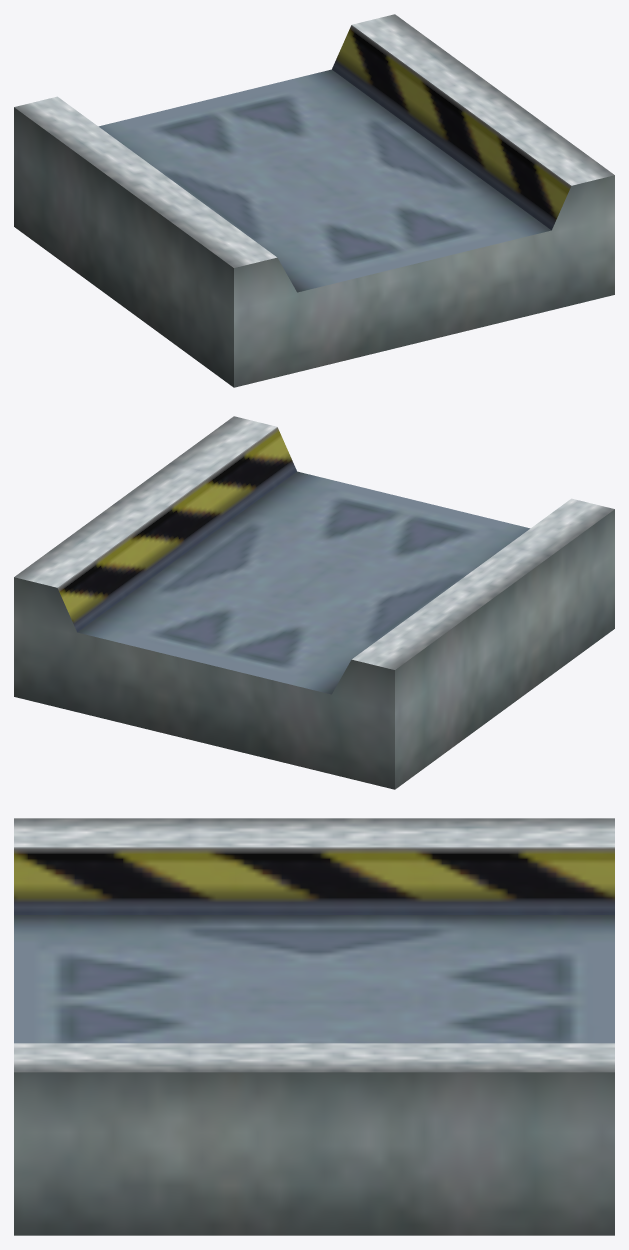
Rendered from ind_tile_straight.obj.
3 renders of one model, top to bottom at view 1: azimuth 30°, elevation 25°; view 2: azimuth 150°, elevation 25°; view 3: azimuth 270°, elevation 25°, orthographic. The views are drawn at different scales.
Parts seen in each view (by area): view 1: tile_straight08; view 2: tile_straight08; view 3: tile_straight08.
Part boxes in pixels (left/top/right/bottom): tile_straight08: left=14, top=14, right=614, bottom=387; tile_straight08: left=14, top=416, right=614, bottom=789; tile_straight08: left=14, top=818, right=614, bottom=1235.
Bounding box in the file's own units: 1 × 0.3 × 1.
1 material, 1 textured.
